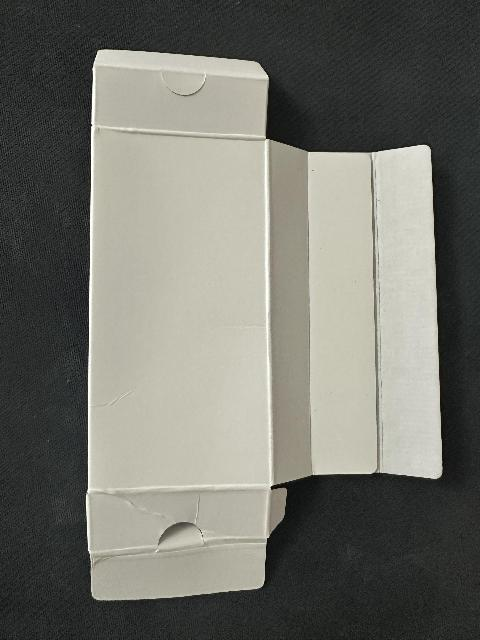Kagit: (56, 21, 460, 610), (144, 47, 153, 48), (291, 105, 293, 108), (417, 138, 418, 140)
